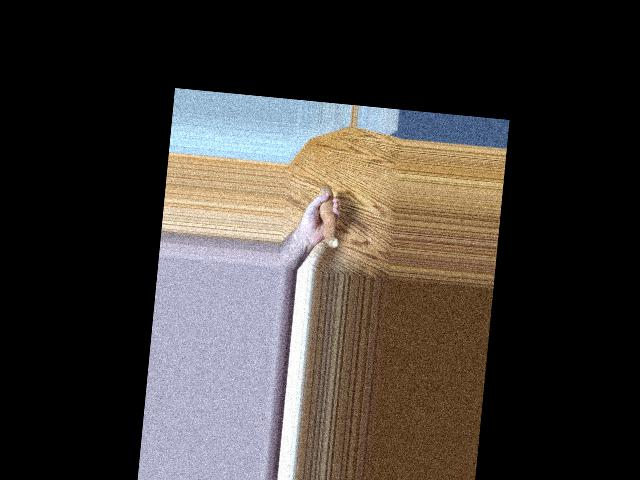sweet_potato: (310, 190, 340, 253)
